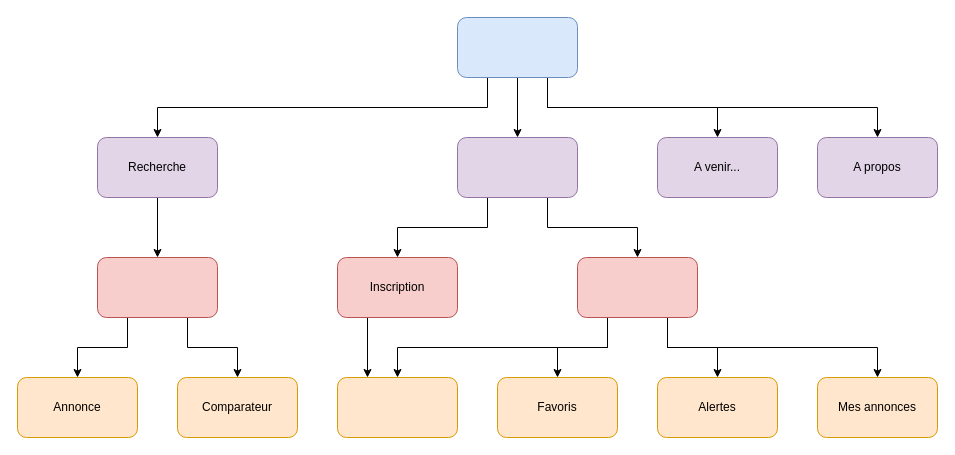
Some shapes in this 955 by 455 pixel diagram are drawn without their labels. The centre of each missing label's shape, as x and y in pixels:
Authentification / Connexion: [517,167]
Compte: [397,407]
Liste des annonces: [157,287]
Page d'acceuil: [517,47]
Profil: [637,287]
